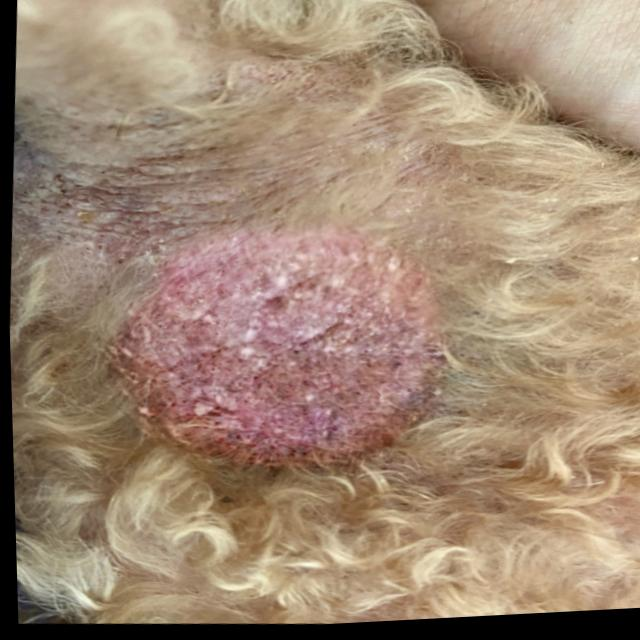ringworm: (105, 208, 466, 496)
